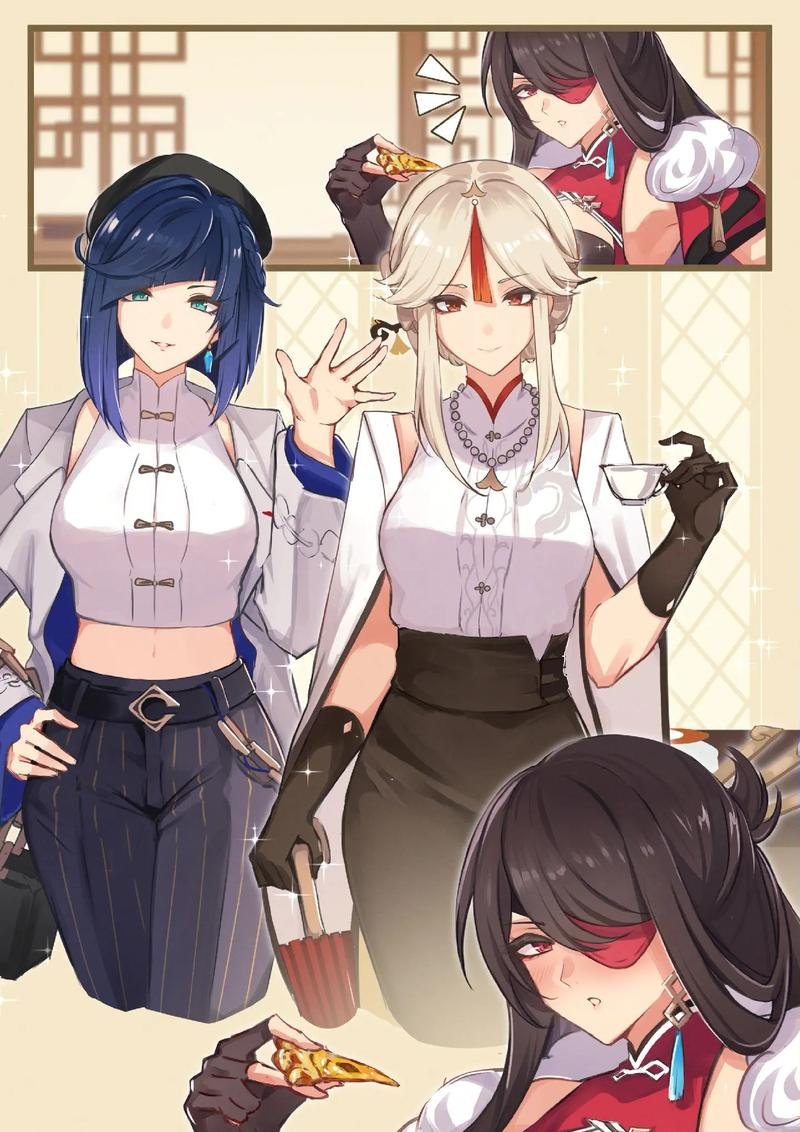夜兰: (1, 145, 397, 1014)
